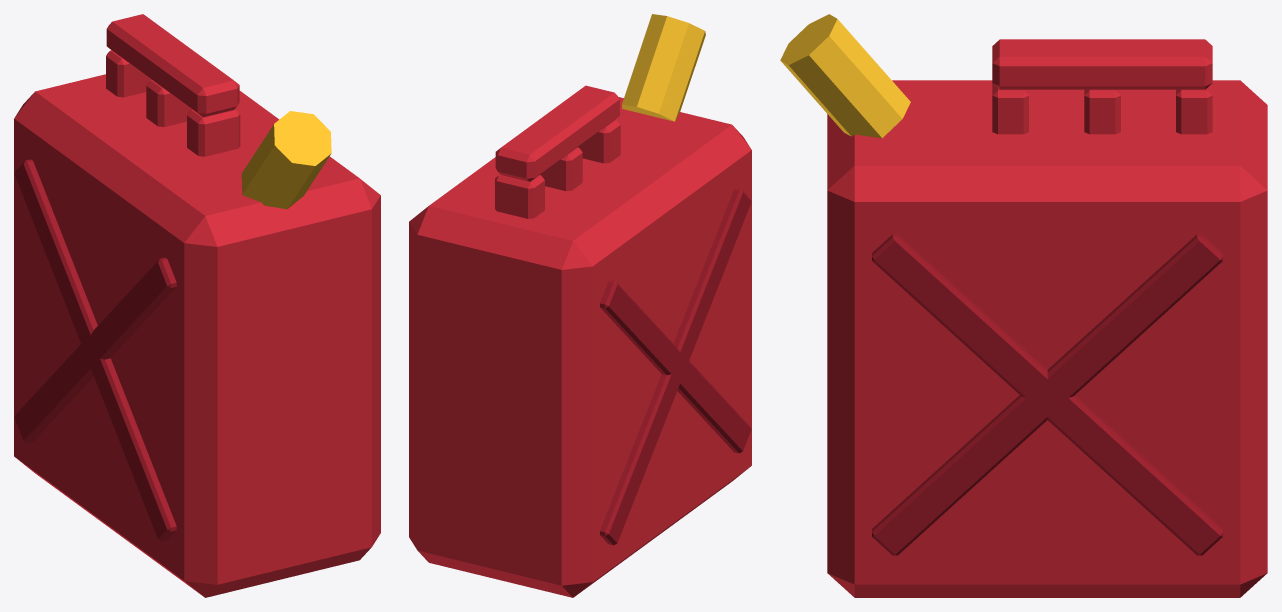
File: GasCan.fbx
3 views of the same model, side by side, from view 1: azimuth 30°, elevation 25°; view 2: azimuth 150°, elevation 25°; view 3: azimuth 270°, elevation 25° (orthographic). The views are drawn at different scales.
Parts seen in each view (by area): view 1: GasCan; view 2: GasCan; view 3: GasCan.
Boxes of the visible parts, left/top/right/bottom form: GasCan: left=14, top=14, right=380, bottom=597; GasCan: left=409, top=14, right=751, bottom=597; GasCan: left=780, top=14, right=1267, bottom=597.
Size of the model in its own units: 1.52 by 3.22 by 2.66.
Materials: 1 (1 with a texture image).
